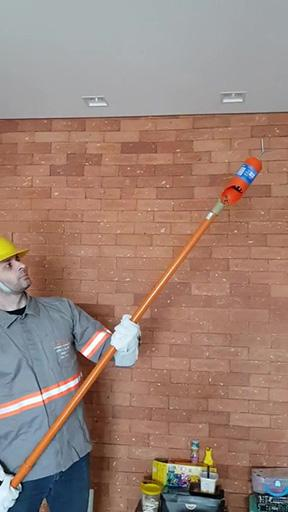Detector_Tensao_Contato: (219, 138, 275, 207)
Vara_Manobra: (1, 203, 222, 502)
